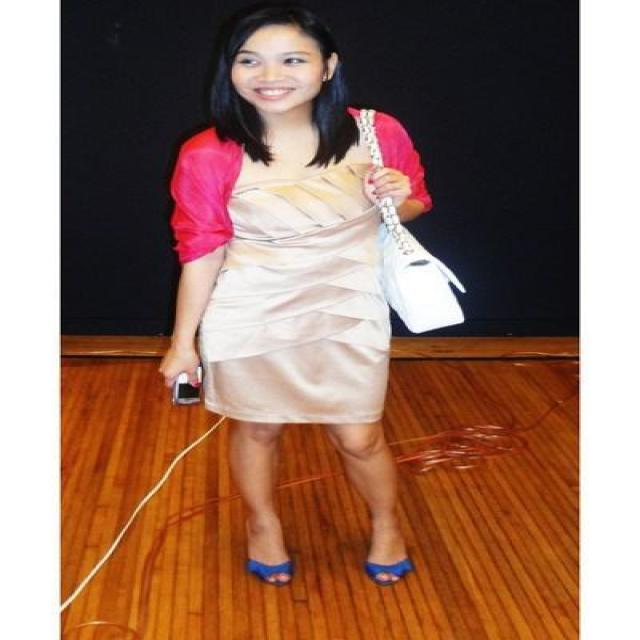bag: (346, 109, 464, 332)
dress: (179, 154, 394, 422)
jacket: (172, 115, 430, 266)
shoe: (250, 559, 411, 583)
